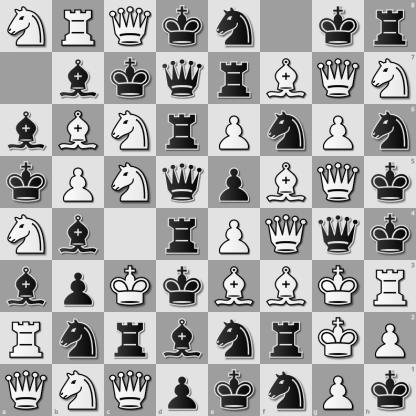B: (53, 105, 104, 156), (209, 261, 260, 312), (261, 53, 312, 104), (261, 157, 312, 208), (261, 261, 312, 312)
K: (105, 261, 156, 312), (313, 261, 364, 312), (313, 313, 364, 364)
N: (52, 364, 104, 416), (364, 52, 416, 104), (1, 1, 52, 52), (1, 209, 52, 260), (105, 105, 156, 156), (105, 157, 156, 208)
P: (312, 364, 364, 416), (364, 312, 416, 364), (53, 157, 104, 208), (209, 105, 260, 156), (209, 209, 260, 260), (313, 105, 364, 156)
Q: (0, 364, 52, 416), (104, 364, 156, 416), (105, 1, 156, 52), (261, 209, 312, 260), (313, 53, 364, 104), (313, 157, 364, 208)
R: (364, 260, 416, 312), (1, 313, 52, 364), (53, 1, 104, 52)
b: (1, 105, 52, 156), (1, 261, 52, 312), (53, 53, 104, 104), (53, 209, 104, 260), (157, 313, 208, 364)
board: (0, 0, 415, 415)
k: (364, 156, 416, 209), (364, 364, 416, 416), (209, 364, 260, 416), (364, 209, 416, 260), (1, 157, 52, 208), (105, 53, 156, 104), (157, 1, 208, 52), (157, 261, 208, 312), (313, 1, 364, 52)
n: (260, 364, 312, 416), (364, 104, 416, 156), (53, 313, 104, 364), (209, 1, 260, 52), (209, 313, 260, 364), (261, 105, 312, 156)
p: (156, 364, 209, 416), (53, 261, 104, 312), (209, 157, 260, 208)
q: (157, 53, 208, 104), (157, 157, 208, 208), (313, 209, 364, 260)
r: (364, 0, 416, 52), (105, 313, 156, 364), (157, 105, 208, 156), (157, 209, 208, 260), (209, 53, 260, 104), (261, 313, 312, 364)
